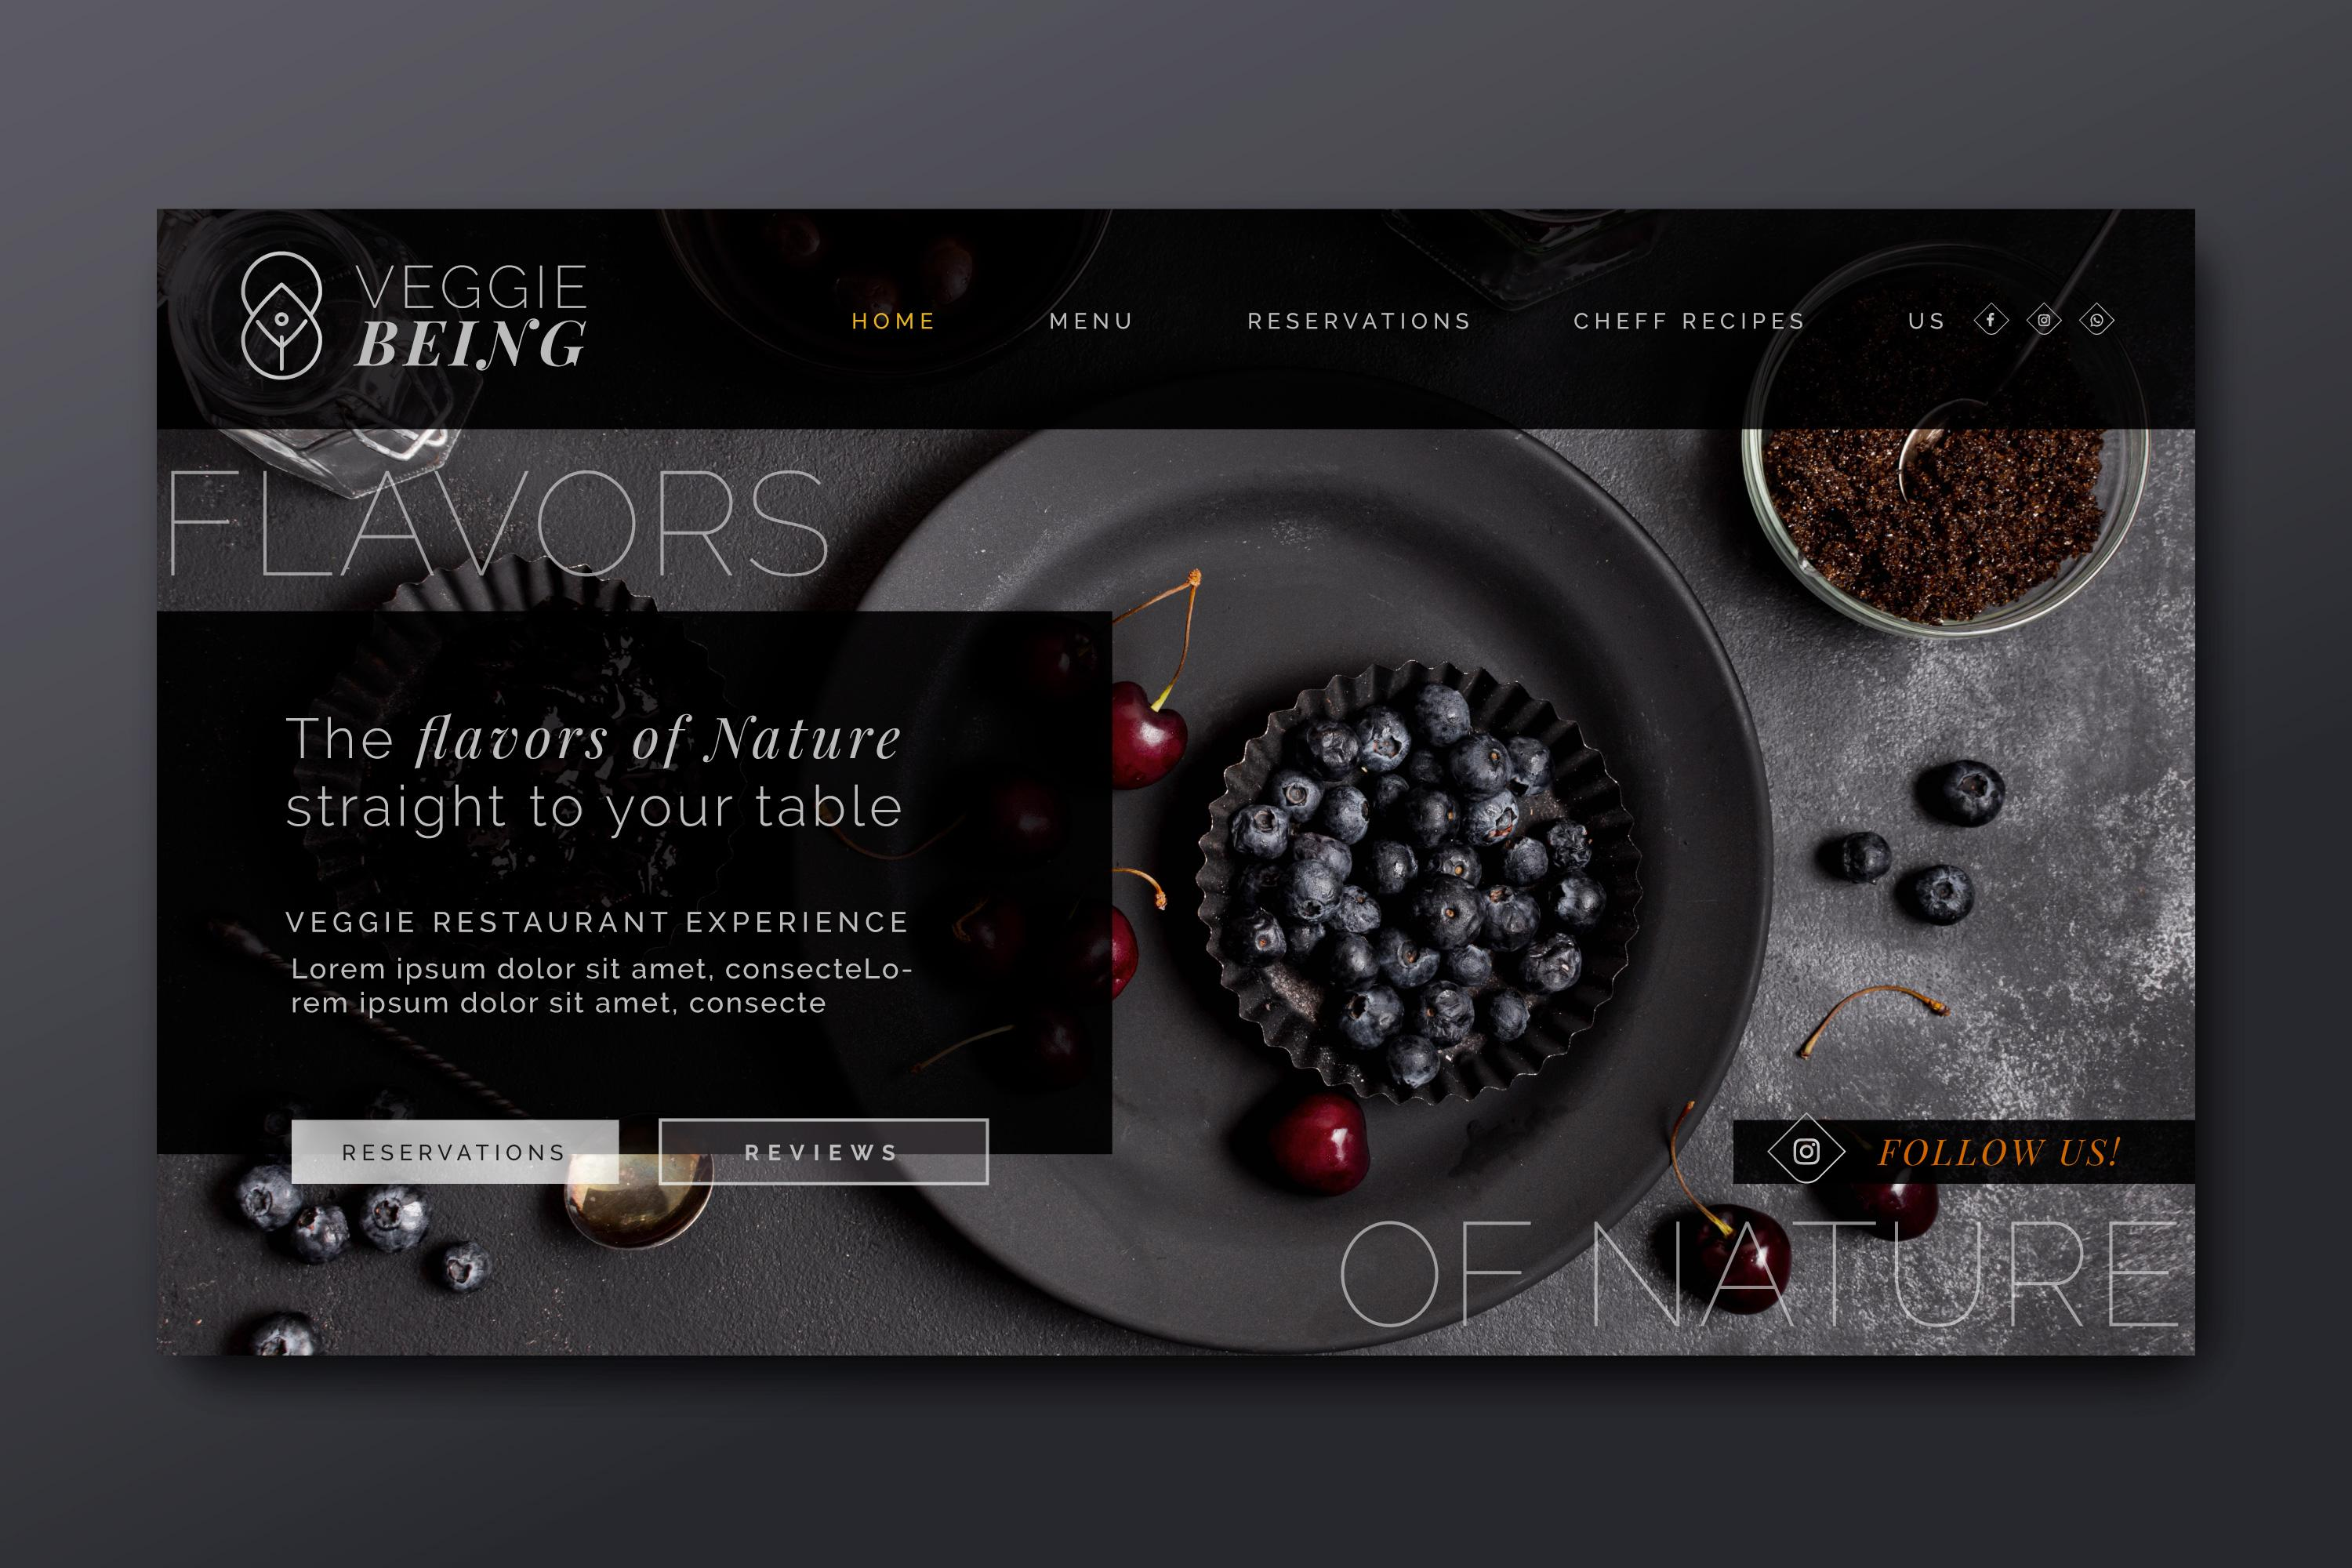menu: (168, 229, 2186, 431)
